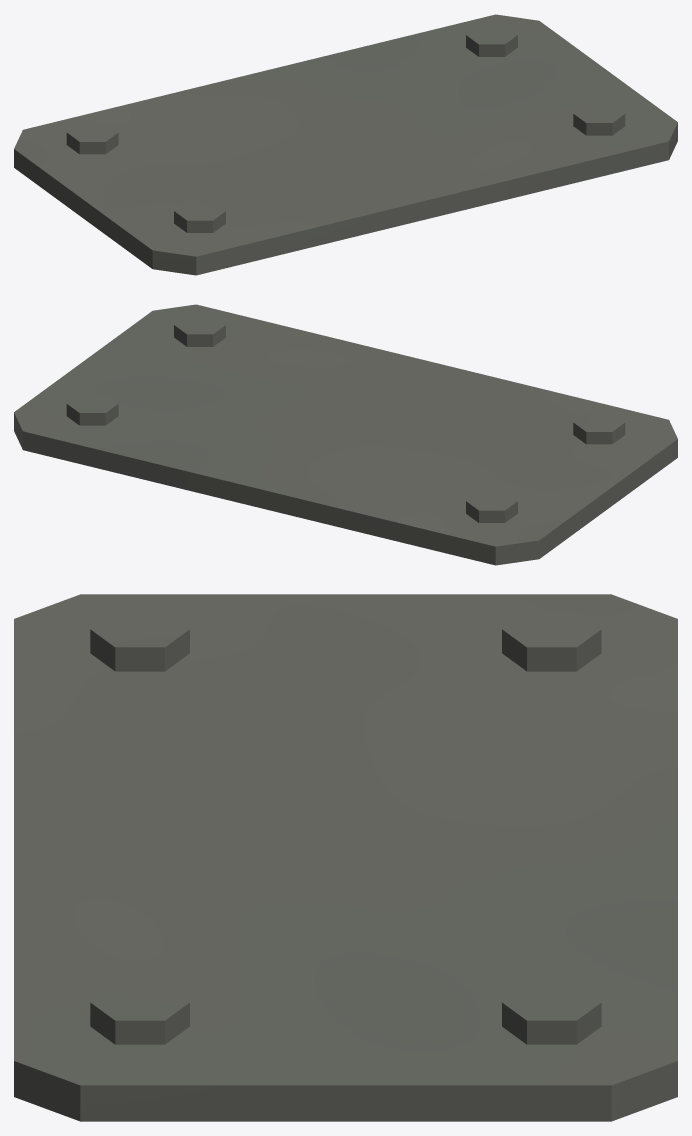
File: WarrensC_CCS73_BoltedRepairPlate_Mars_SM.fbx
The picture shows the model from 3 angles, top to bottom: view 1: azimuth 30°, elevation 25°; view 2: azimuth 150°, elevation 25°; view 3: azimuth 270°, elevation 25°; orthographic projection. The views are drawn at different scales.
Visible parts, largest first — view 1: WarrensC_CCS73_BoltedRepairPlate_Mars_SM.001; view 2: WarrensC_CCS73_BoltedRepairPlate_Mars_SM.001; view 3: WarrensC_CCS73_BoltedRepairPlate_Mars_SM.001.
Boxes of the visible parts, x1,y1,x2,y2 form: WarrensC_CCS73_BoltedRepairPlate_Mars_SM.001: (14,14,677,275); WarrensC_CCS73_BoltedRepairPlate_Mars_SM.001: (14,304,677,565); WarrensC_CCS73_BoltedRepairPlate_Mars_SM.001: (14,594,677,1121).
Size of the model in its own units: 70 by 40 by 4.
